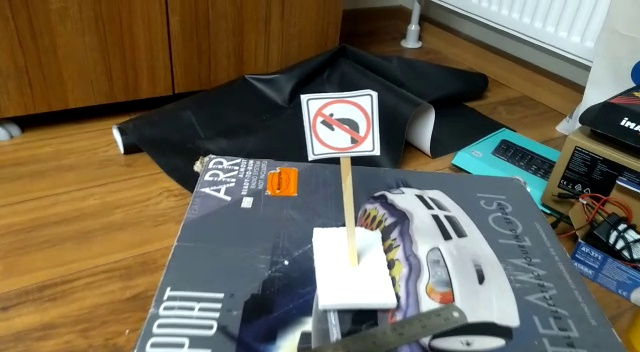sola_donulmez: (310, 98, 373, 154)
